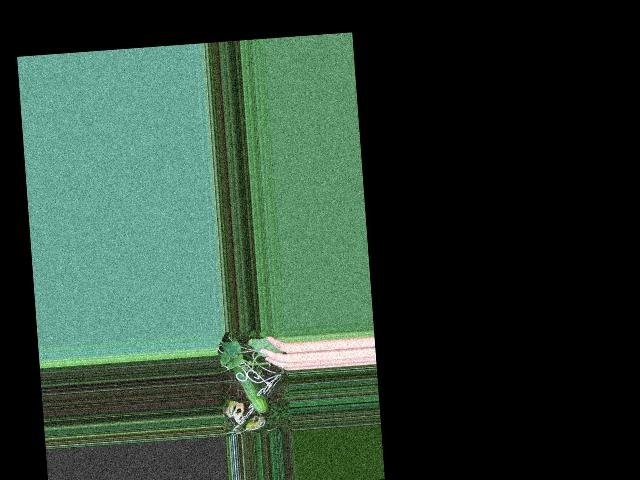cucumber: (232, 363, 269, 414)
